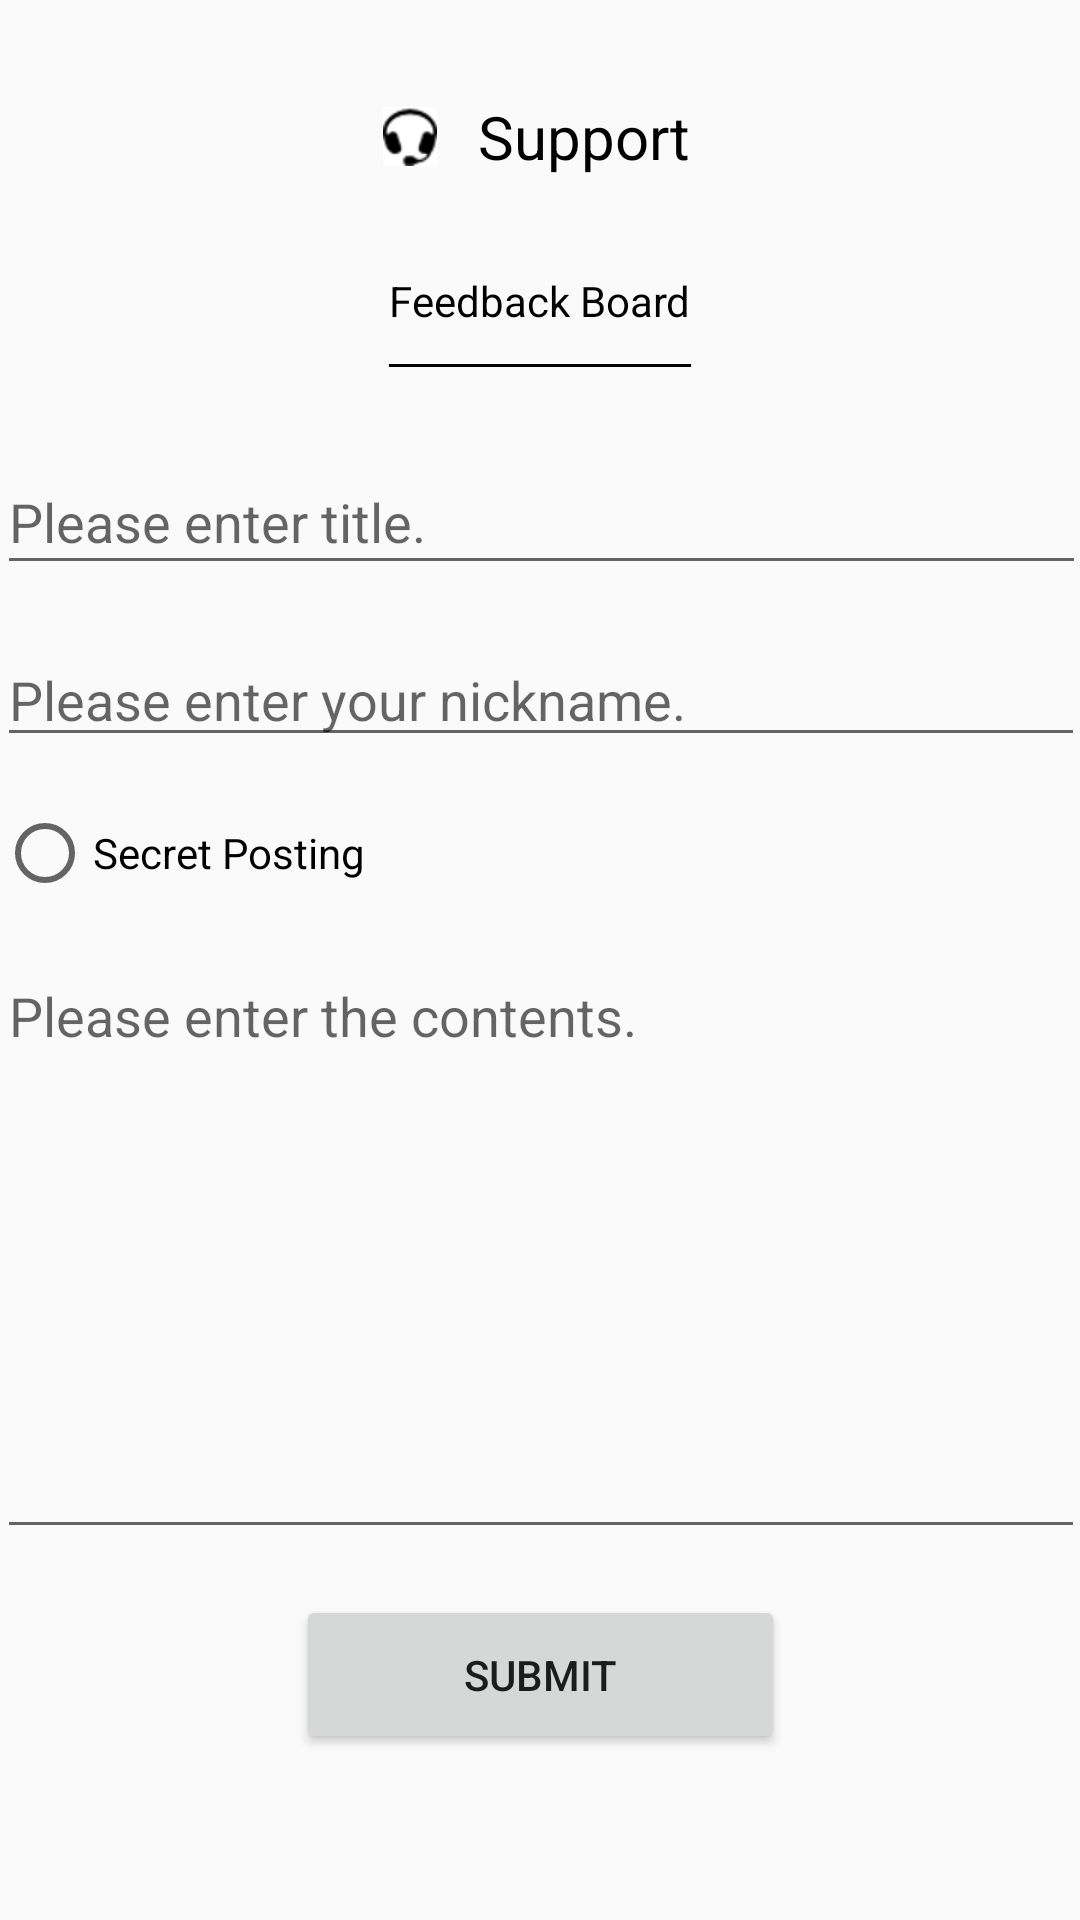

Named icons in this screenshot (1080 x 1920) and their bounding boxes, rect(x1, y1, x2, y2):
headset: rect(383, 108, 437, 166)
